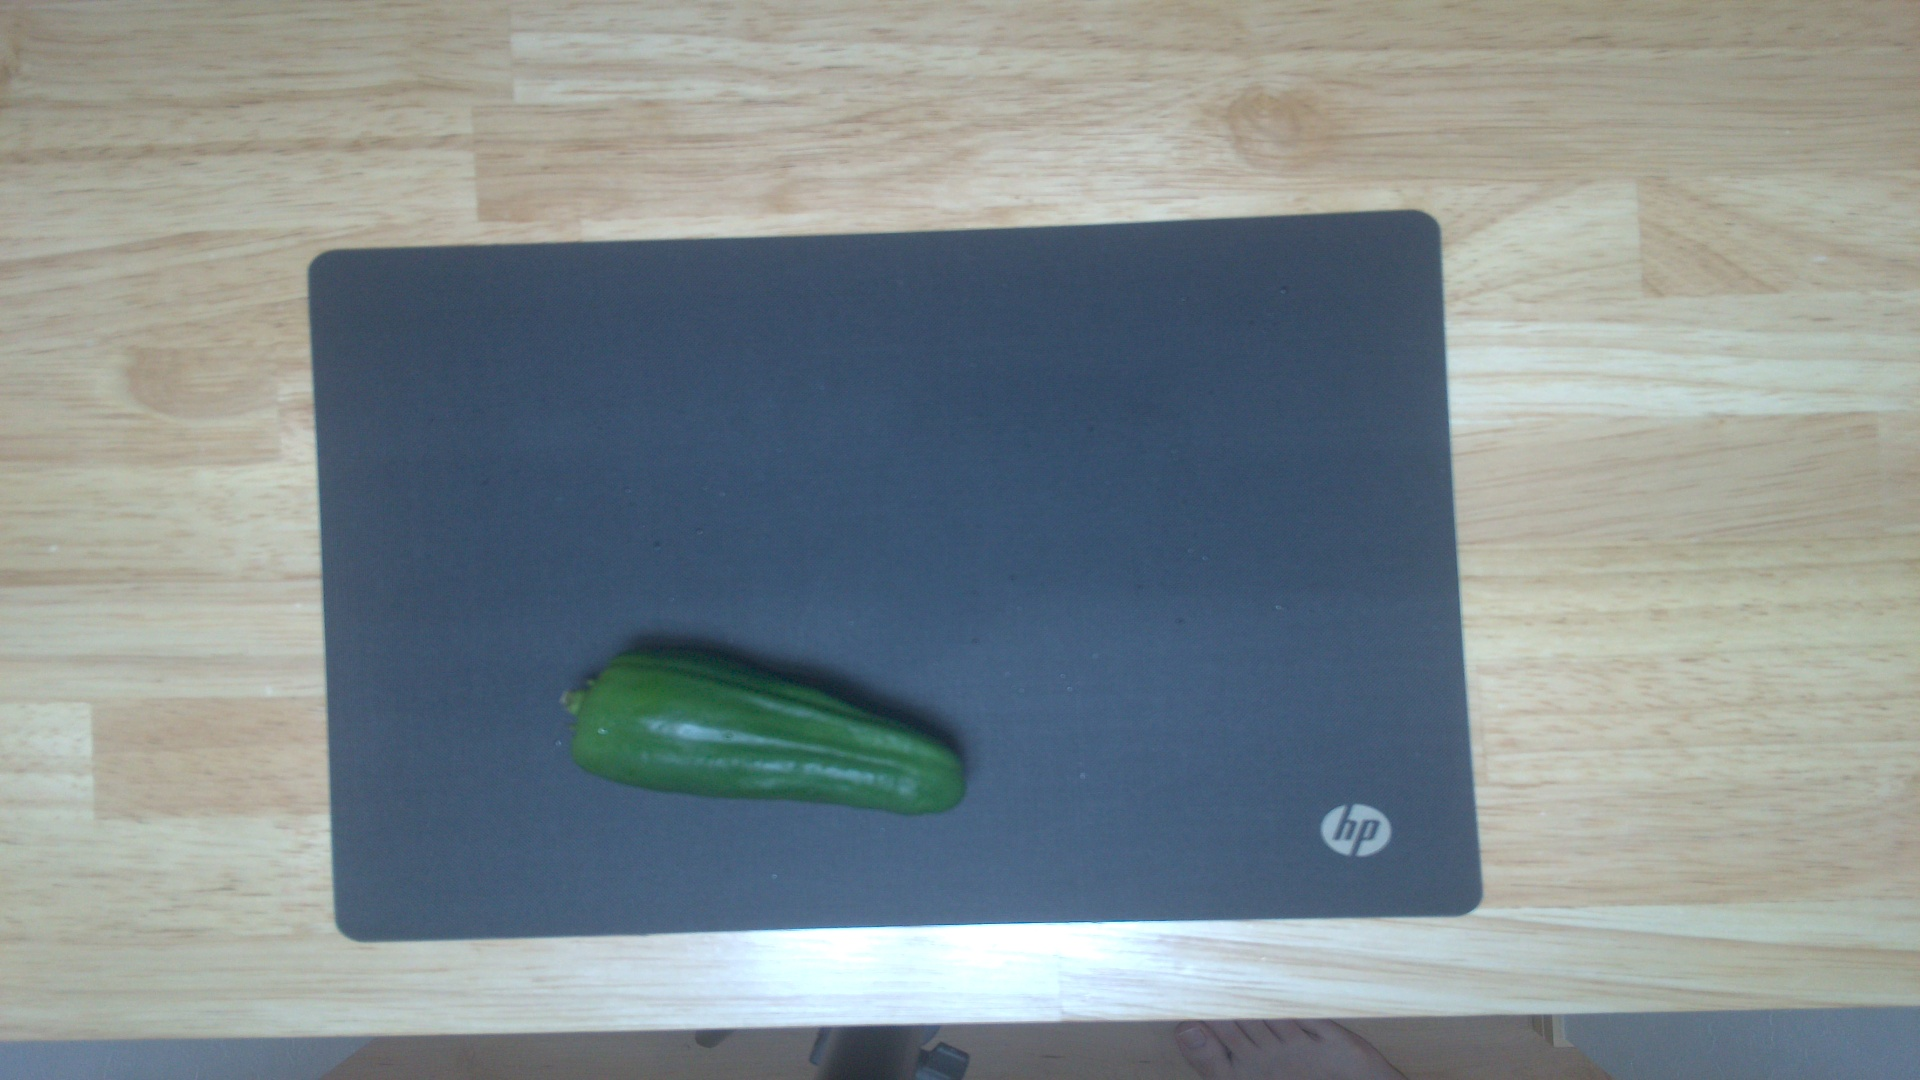Piman: (560, 645, 963, 828)
